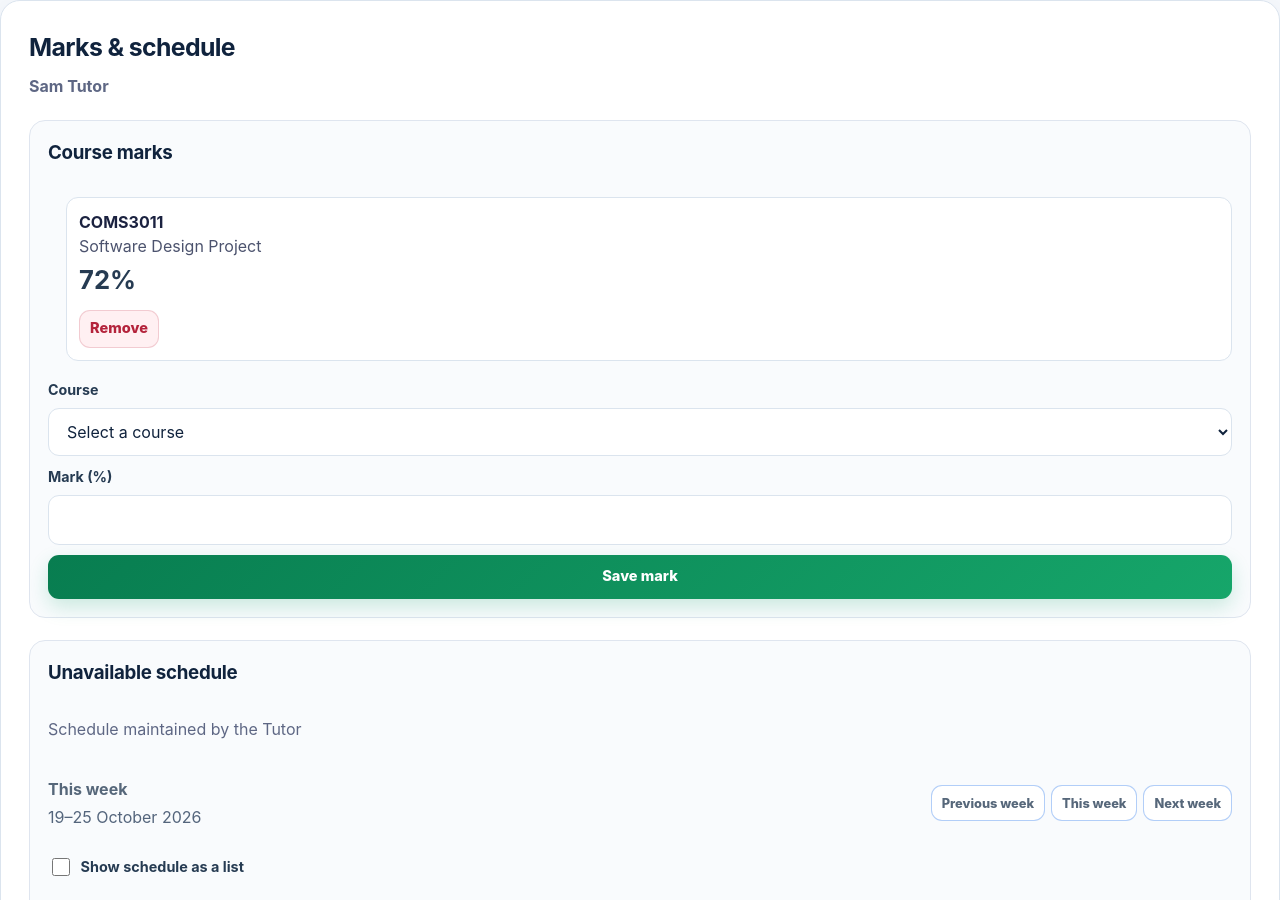
Scenario: TutorAllocationDetails › confirms and removes a mark while warning about active allocations
Click the button with aria-label "remove COMS3011 mark" at [119, 329], box [79, 310, 159, 348]
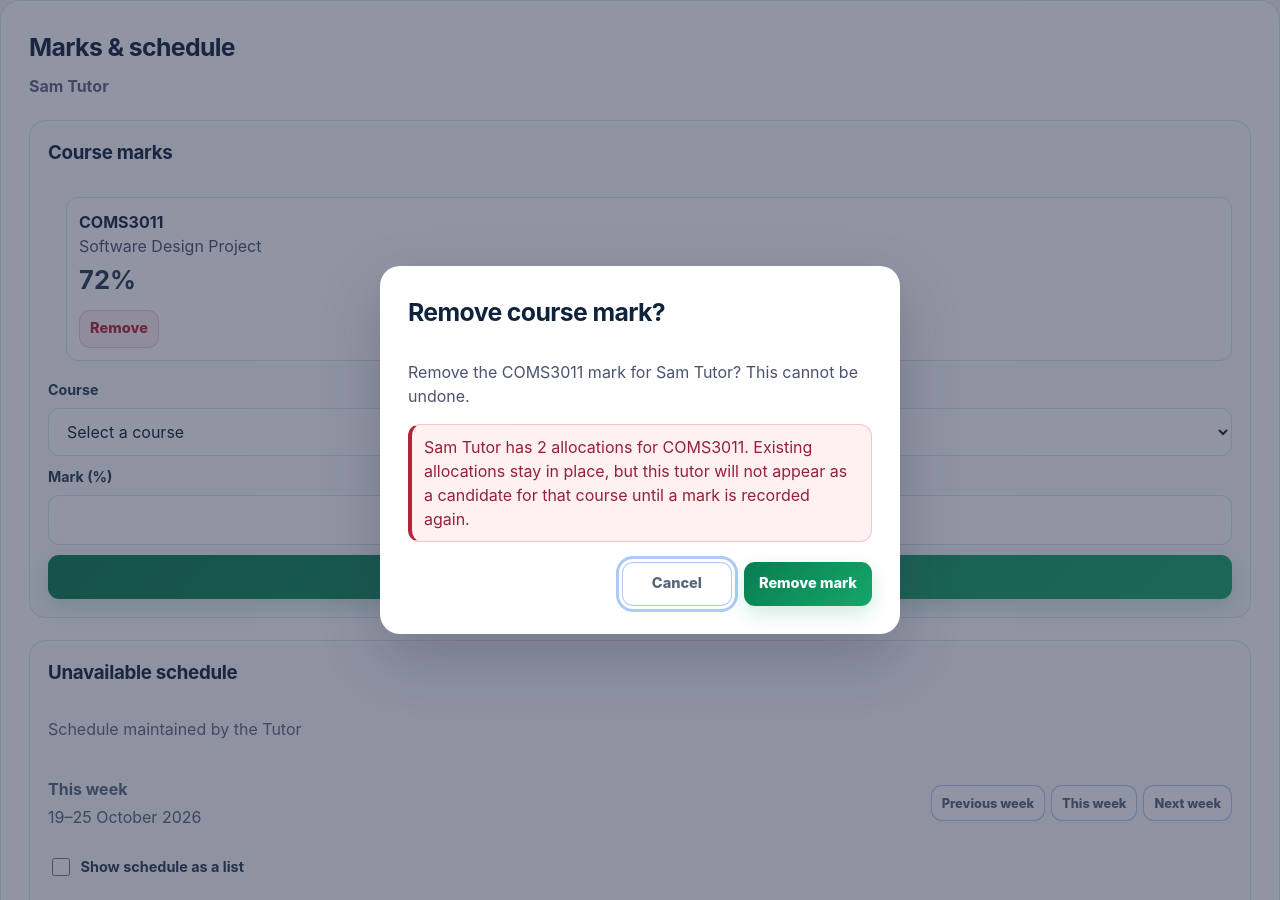
Now the dialog shows "has 2 allocations", box [380, 266, 900, 634]
Click the button "Remove mark" at [808, 584], box [744, 562, 872, 606]
(page scrolled)
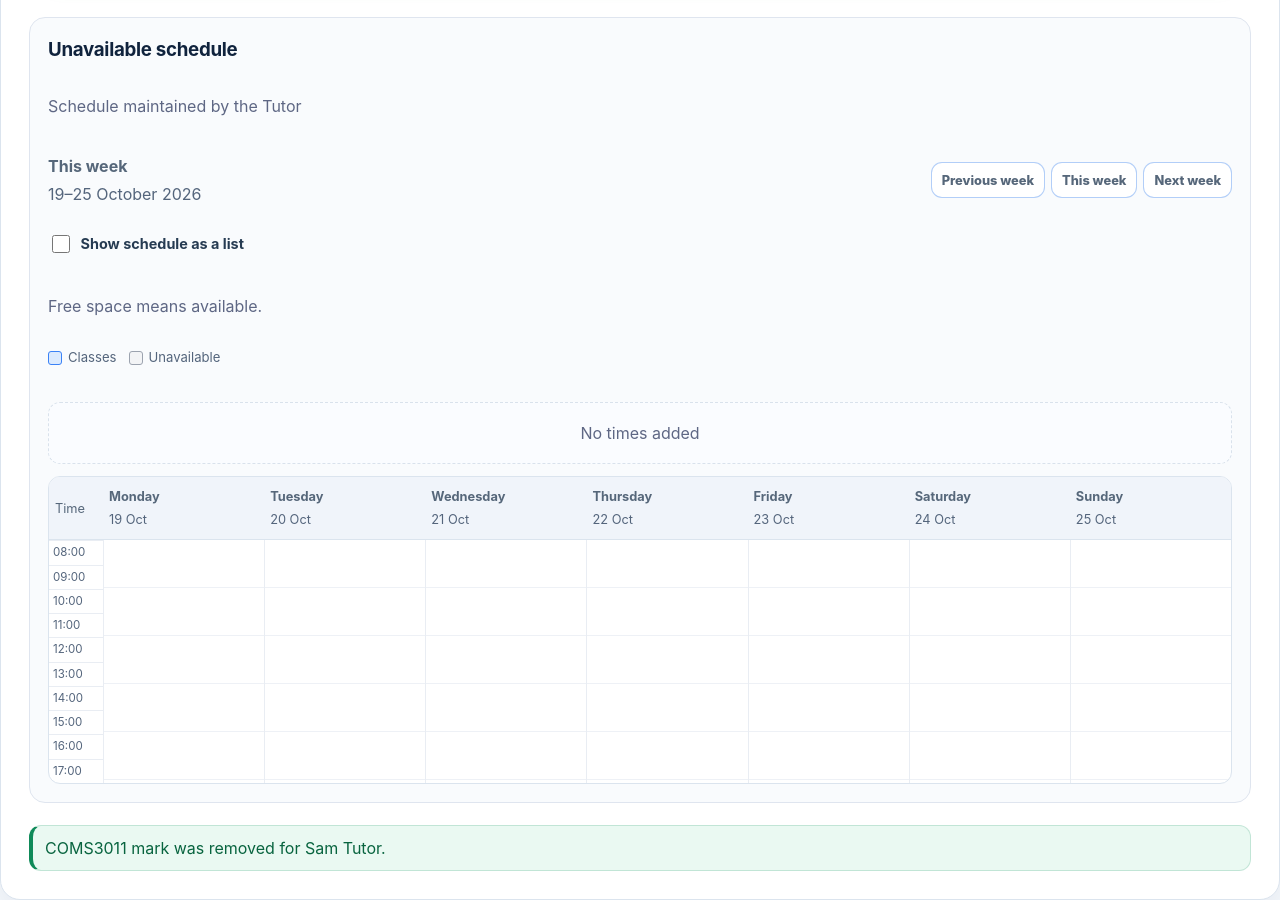
Now the text "COMS3011 mark was removed for Sam Tutor." is shown, box [29, 825, 1251, 871]
